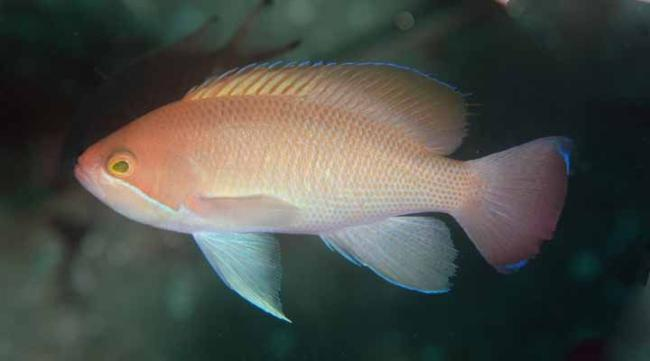fish: (73, 60, 574, 324)
